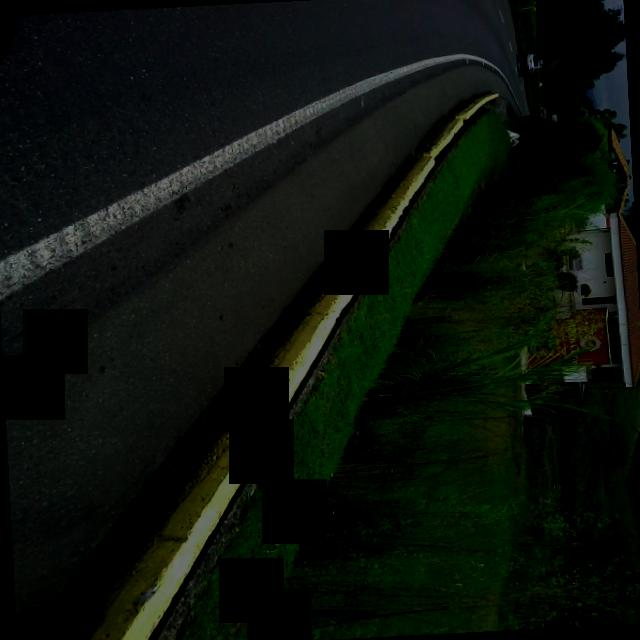DITCH: (0, 31, 521, 640), (0, 89, 546, 640)
